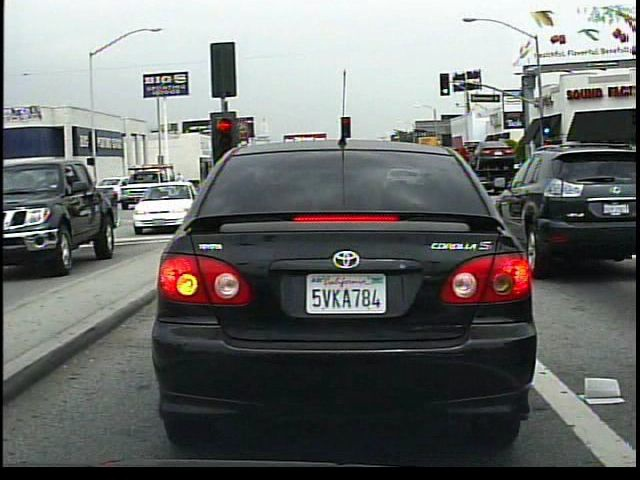person: (172, 167, 193, 193)
